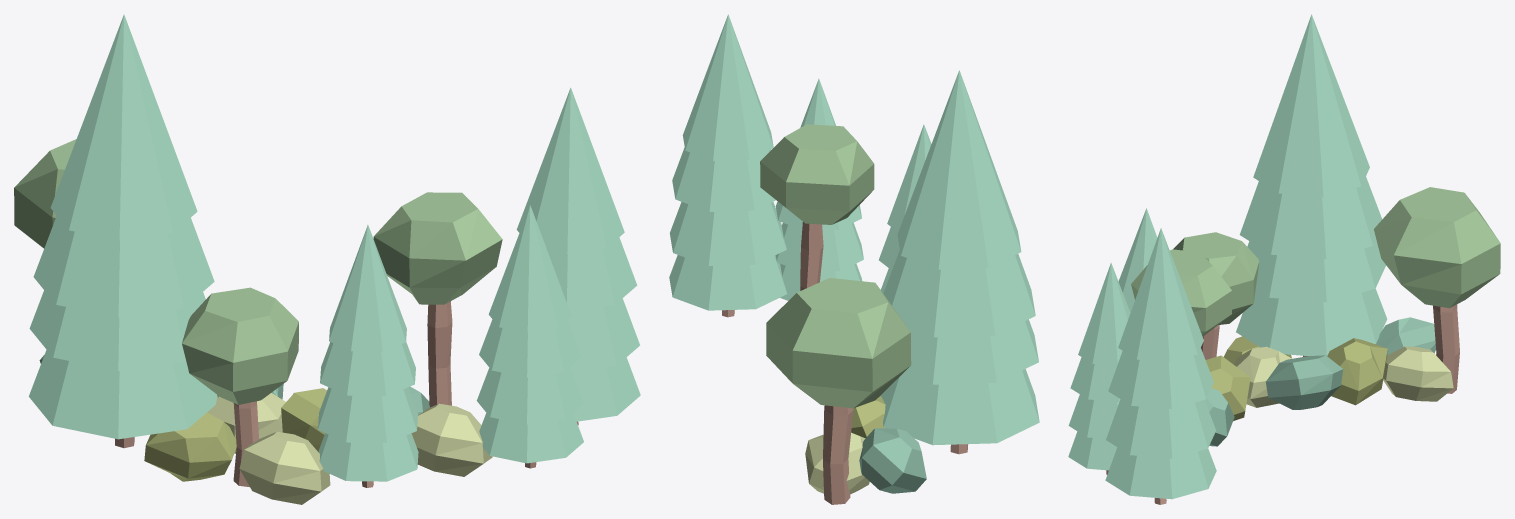
The model's file is Trees2.dae.
The picture shows the model from 3 angles, left to right: view 1: azimuth 30°, elevation 25°; view 2: azimuth 150°, elevation 25°; view 3: azimuth 270°, elevation 25°; orthographic projection. The views are drawn at different scales.
Parts seen in each view (by area): view 1: Trees2; view 2: Trees2; view 3: Trees2.
Part boxes in pixels (<box>): Trees2: <box>14,14,640,504</box>; Trees2: <box>669,14,1039,504</box>; Trees2: <box>1068,14,1500,504</box>.
Bounding box in the file's own units: 17.19 × 16.09 × 14.82.
